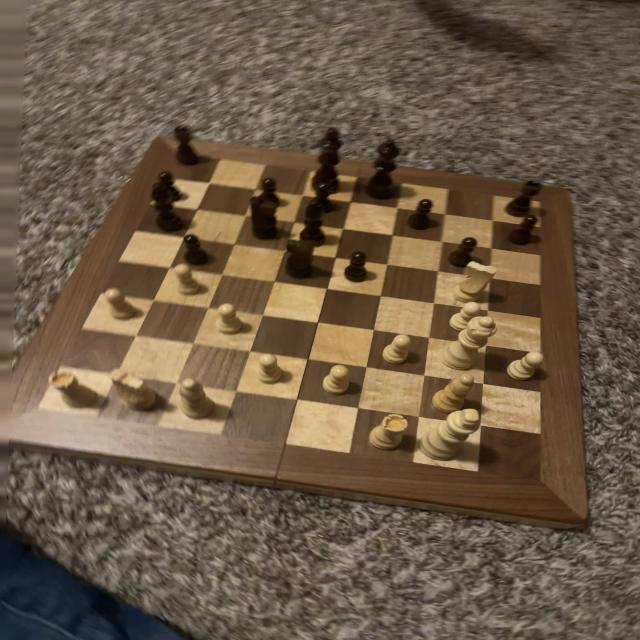bishop: (152, 180, 192, 233), (296, 197, 332, 248)
black-bishop: (308, 125, 349, 198)
black-king: (280, 238, 322, 282), (246, 195, 285, 242)
black-knight: (444, 234, 488, 271), (504, 215, 546, 250), (341, 250, 381, 286), (309, 181, 346, 216), (406, 197, 444, 231), (255, 175, 290, 210), (179, 233, 212, 266), (154, 168, 183, 204)
black-pawn: (363, 136, 405, 202)
black-queen: (502, 180, 546, 219), (167, 123, 205, 166)
black-rook: (173, 376, 223, 422), (428, 372, 476, 415)
white-bishop: (413, 407, 488, 463)
white-king: (105, 364, 161, 416), (448, 260, 500, 307)
white-knight: (101, 287, 144, 323), (444, 299, 484, 334), (505, 348, 546, 382), (319, 362, 355, 400), (380, 331, 415, 367), (214, 300, 247, 338), (172, 262, 206, 297), (252, 352, 287, 386)
white-pawn: (437, 315, 502, 374)
white-queen: (46, 367, 100, 410), (364, 412, 411, 452)
